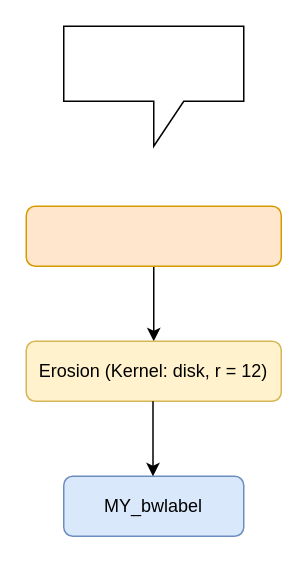
Image size: 308x563. Some labels were removed from this diagram. Here are the shapes that lost their labels. From the top down, the centre of each, then its label:
At point (153, 85): "Q4_a".
At point (153, 235): "3-level Otsu thresholding".
